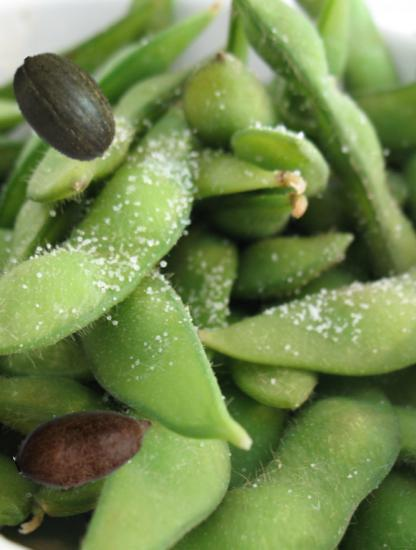Melon: (2, 45, 127, 170)
Nut: (13, 373, 157, 517)
